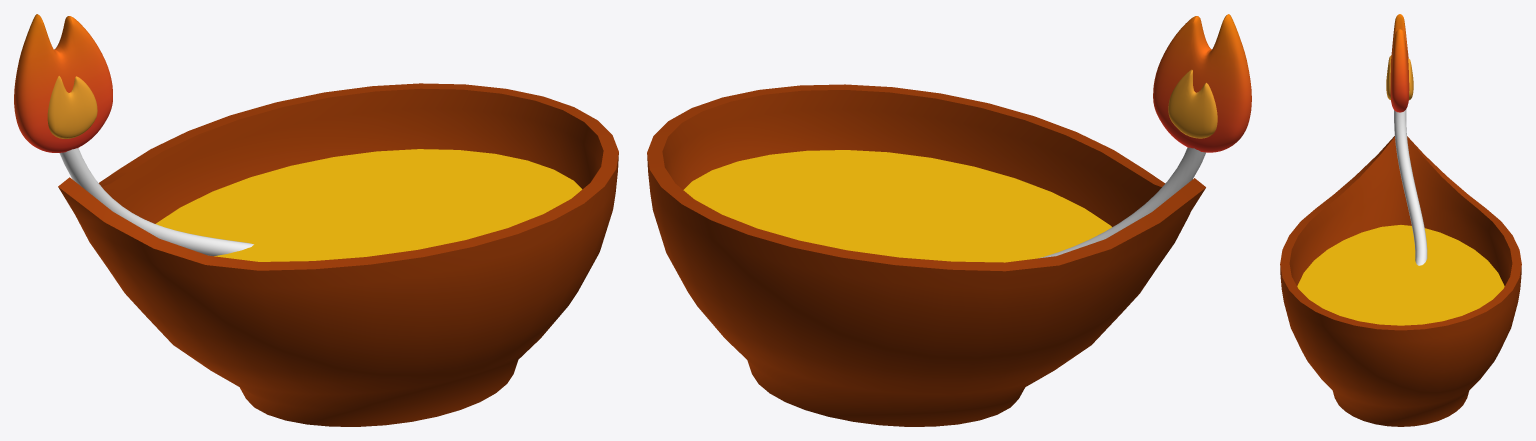
File: diya_lamp.glb
3 renders of one model, left to right at view 1: azimuth 30°, elevation 25°; view 2: azimuth 150°, elevation 25°; view 3: azimuth 270°, elevation 25°, orthographic. The views are drawn at different scales.
Parts seen in each view (by area): view 1: Sphere.531; view 2: Sphere.531; view 3: Sphere.531.
Part boxes in pixels (bbox=[...]): Sphere.531: bbox=[14, 14, 618, 426]; Sphere.531: bbox=[647, 14, 1251, 426]; Sphere.531: bbox=[1280, 14, 1521, 426].
Bounding box in the file's own units: 2.28 × 1.67 × 1.34.
Materials: 1 (1 with a texture image).
